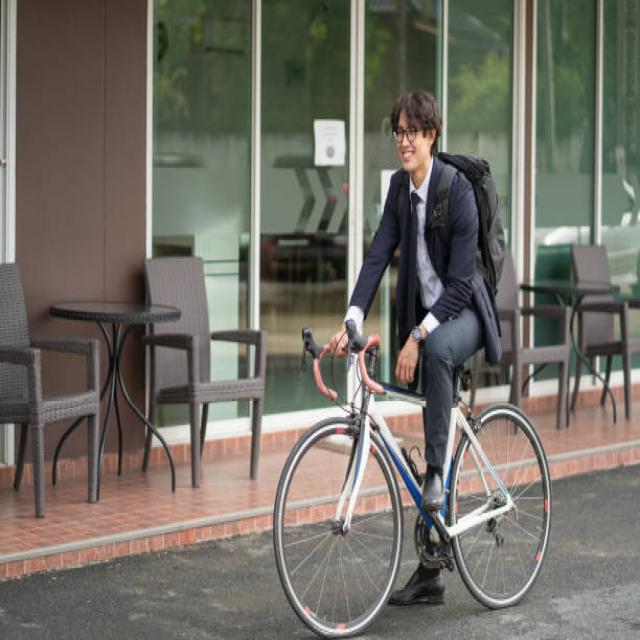bicycle: (275, 90, 550, 637)
